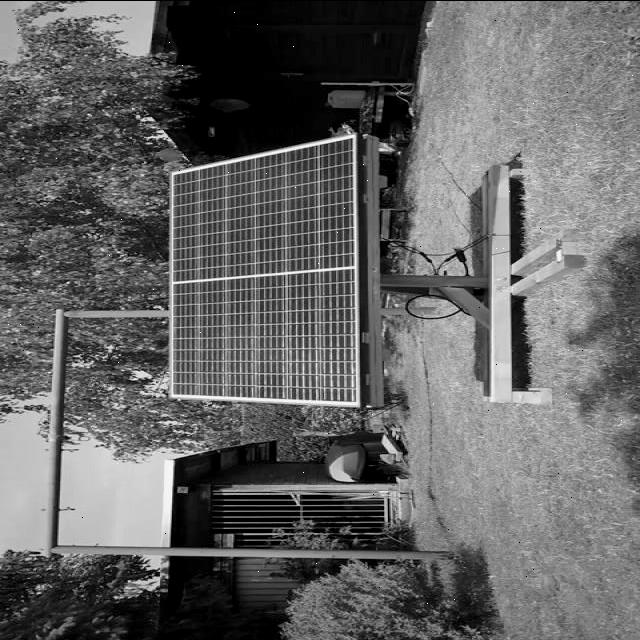Normal Solar Panel: (169, 134, 364, 407)
